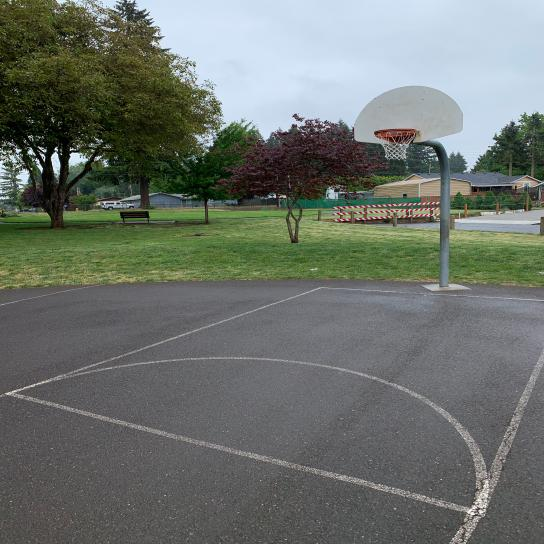basketball-hoop: (372, 128, 418, 161)
